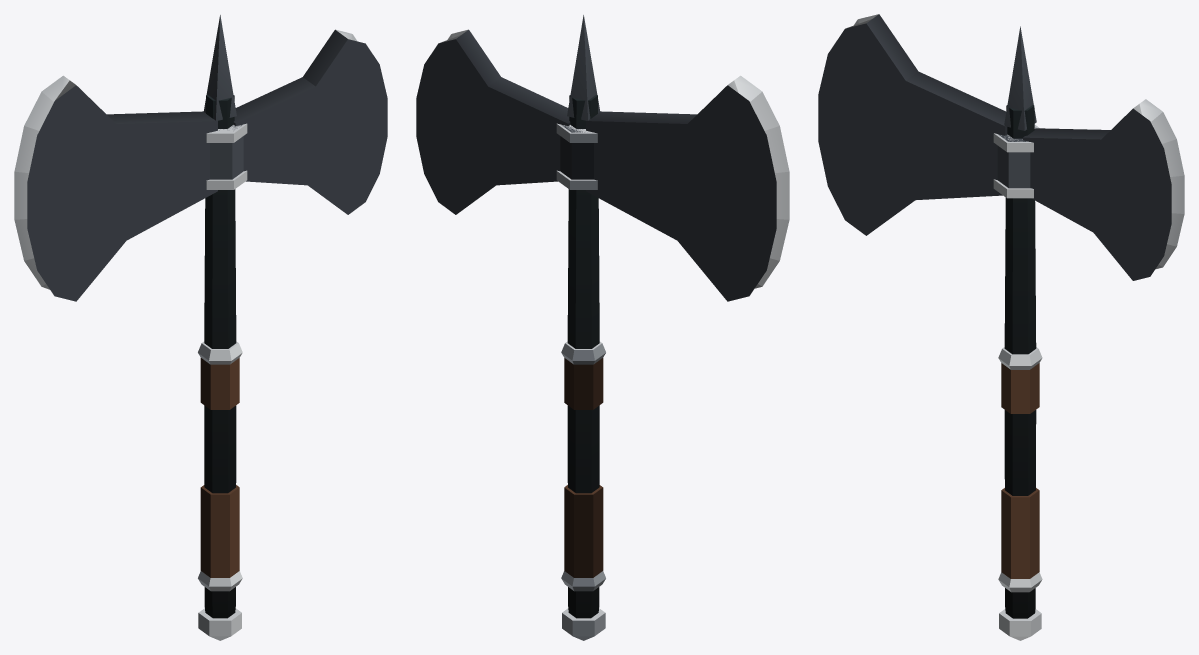
The model's file is barb_axe_2.gltf.
The picture shows the model from 3 angles, left to right: view 1: azimuth 30°, elevation 25°; view 2: azimuth 150°, elevation 25°; view 3: azimuth 330°, elevation 25°; orthographic projection.
Parts seen in each view (by area): view 1: barb_axe_2; view 2: barb_axe_2; view 3: barb_axe_2.
Boxes of the visible parts, x1,y1,x2,y2 form: barb_axe_2: (14, 15, 387, 640); barb_axe_2: (416, 15, 789, 640); barb_axe_2: (818, 14, 1184, 640).
Size of the model in its own units: 1.2 by 2 by 0.1568.
1 material, 1 textured.
